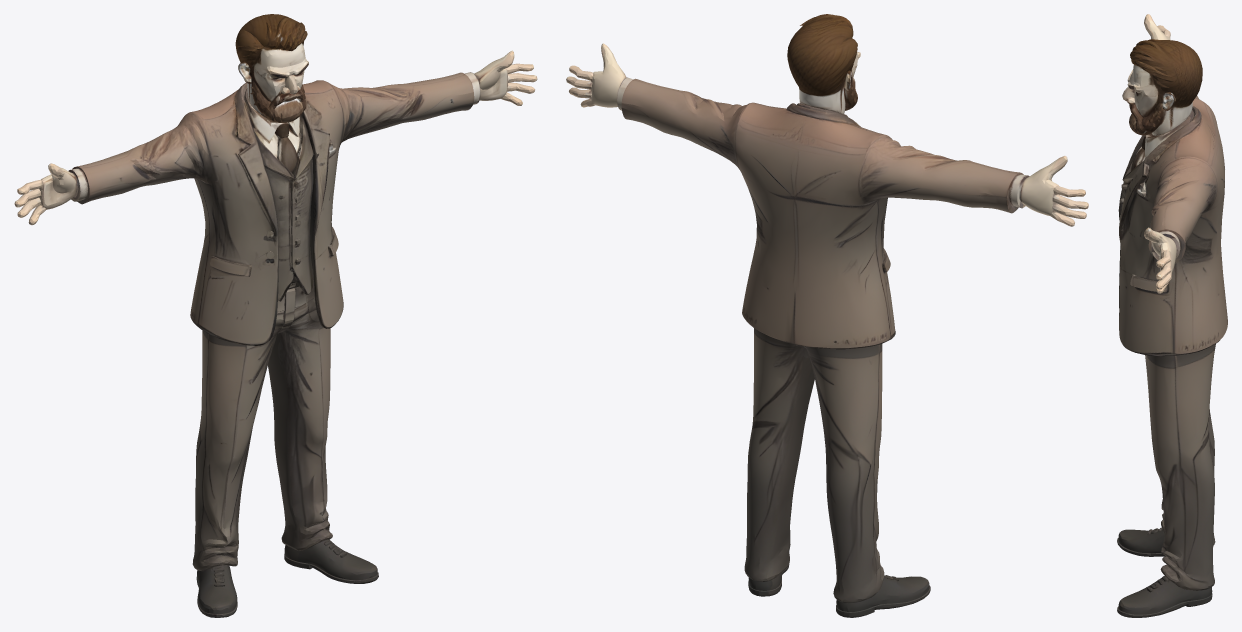
File: base_basic_pbr.fbx
3 renders of one model, left to right at view 1: azimuth 30°, elevation 25°; view 2: azimuth 150°, elevation 25°; view 3: azimuth 270°, elevation 25°, orthographic. The views are drawn at different scales.
Visible parts, largest first — view 1: model; view 2: model; view 3: model.
Part boxes in pixels (box(x1,y1,x2,y2)): model: box(14, 14, 537, 617); model: box(566, 14, 1088, 617); model: box(1117, 14, 1227, 617).
Size of the model in its own units: 166 by 173 by 32.27.
1 material, 1 textured.
